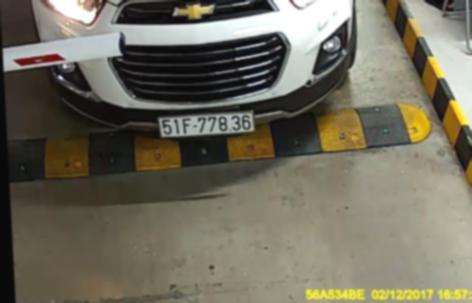License_Plate: (152, 106, 262, 140)
